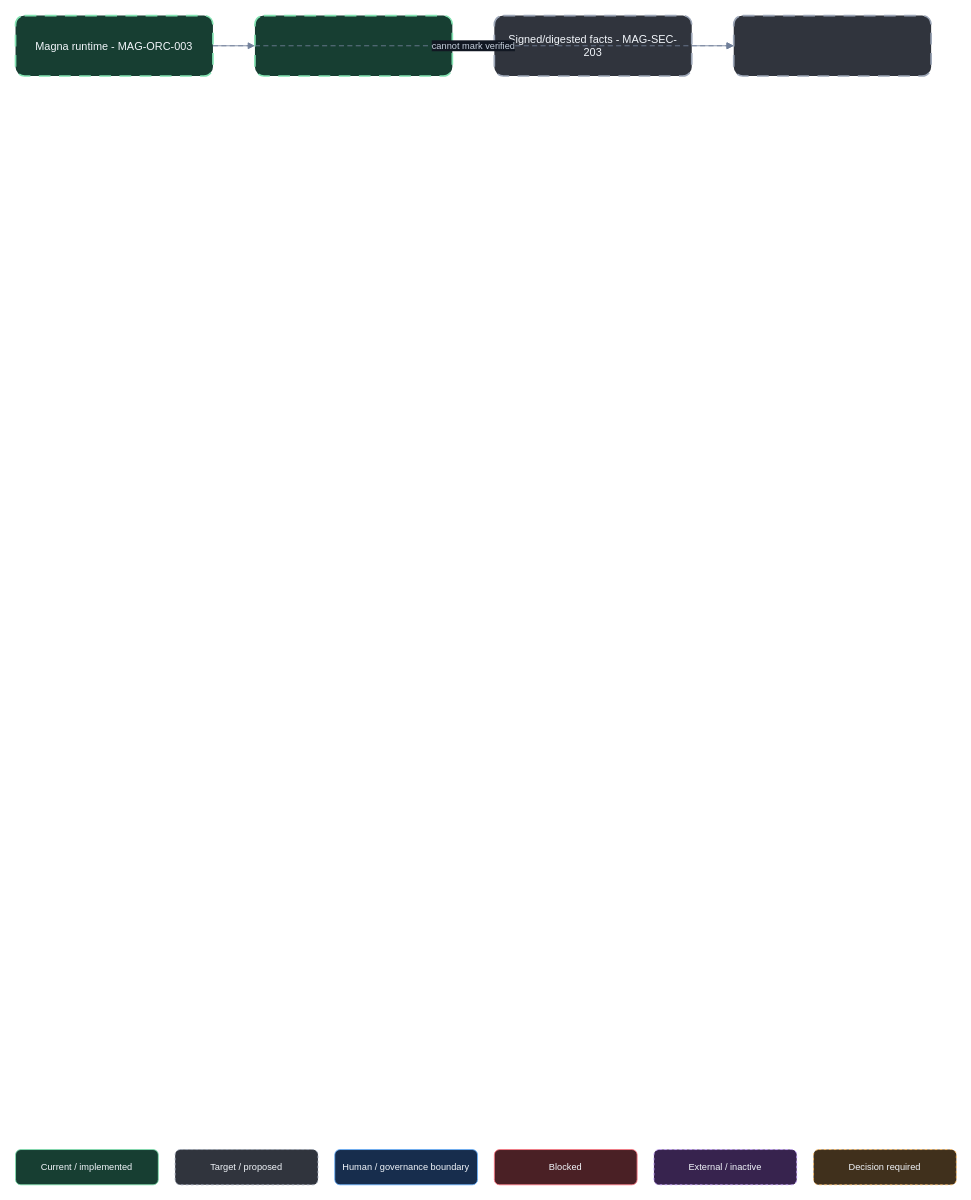
This 971x1200 diagram has some shape labels left out. Each missing label, with the box of its shape:
Read-only export to verifier - MAG-TRC-202: (732, 14, 932, 76)
Runtime facts - MAG-OBS-001: (254, 14, 453, 76)
